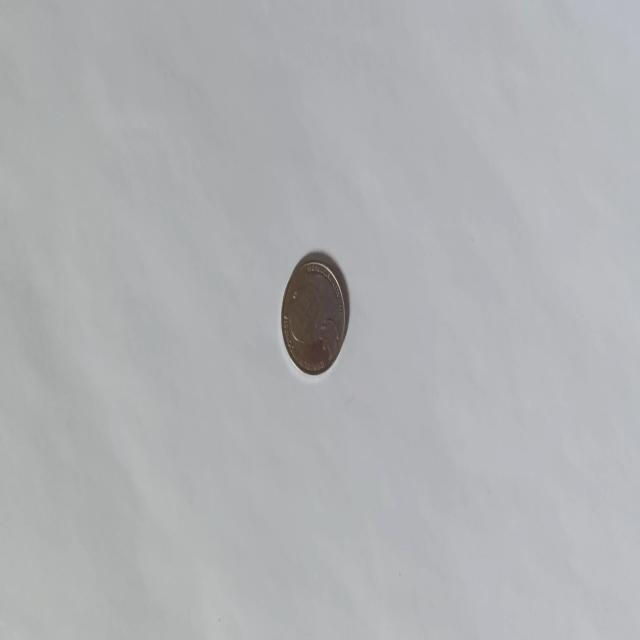seribu rupiah koin: (280, 251, 348, 377)
